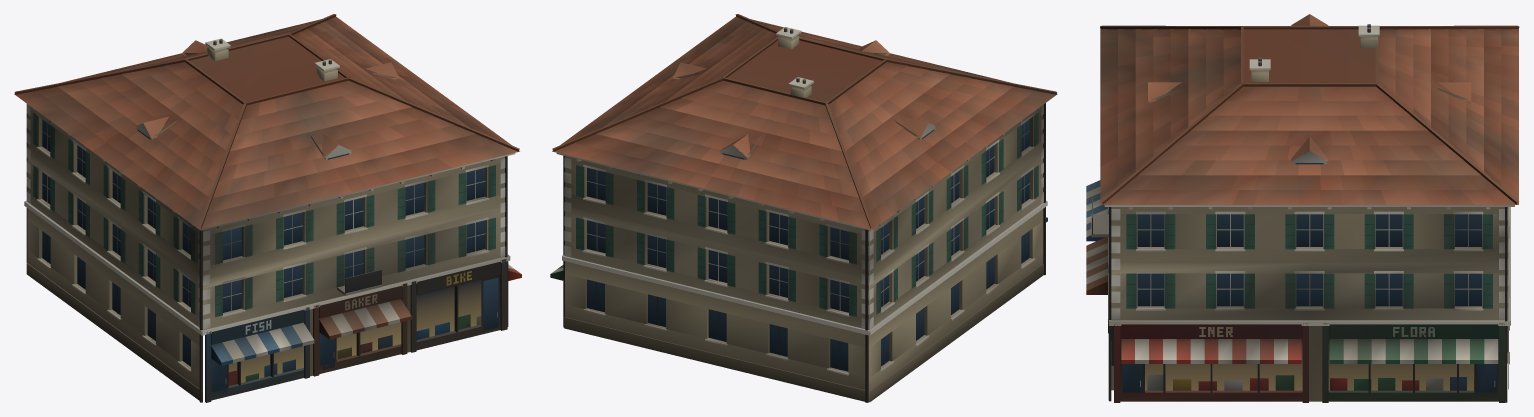
The model's file is building_d.glb.
3 renders of one model, left to right at view 1: azimuth 30°, elevation 25°; view 2: azimuth 150°, elevation 25°; view 3: azimuth 270°, elevation 25°, orthographic. The views are drawn at different scales.
Visible parts, largest first — view 1: Building; view 2: Building; view 3: Building.
Part boxes in pixels (x1,y1,x2,y2): Building: (14,14,521,402); Building: (550,14,1057,402); Building: (1086,14,1519,402).
Size of the model in its own units: 21.82 by 15.5 by 21.82.
